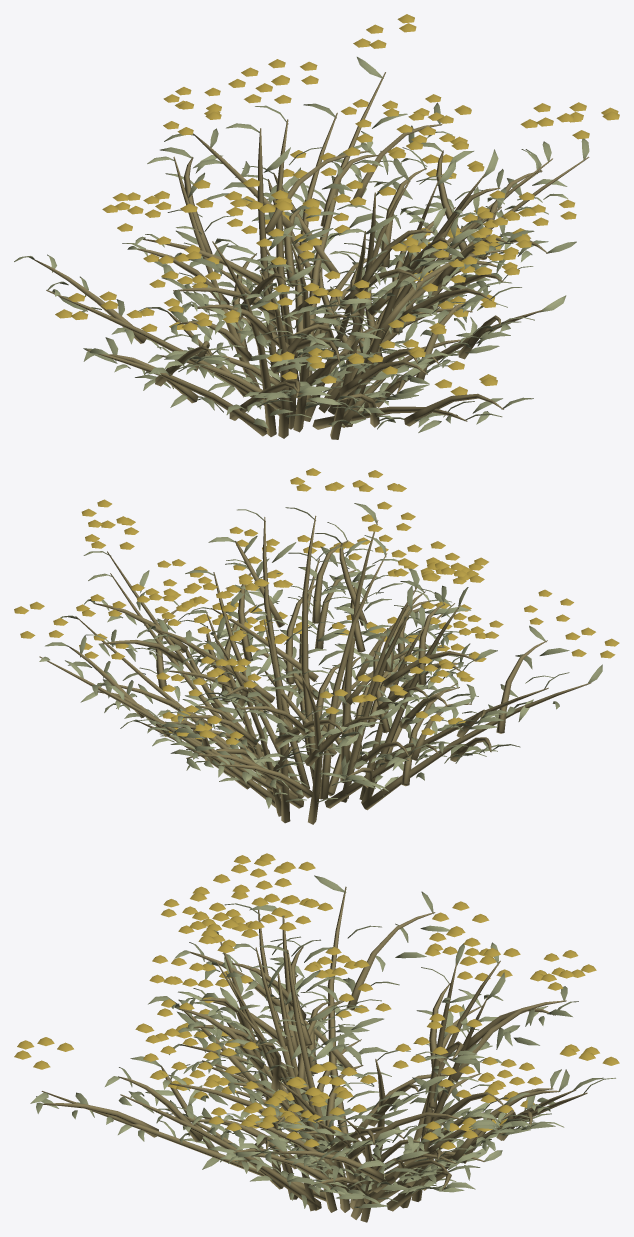
File: Immortelle_Jeune_LOD0.fbx
3 views of the same model, one above another, from view 1: azimuth 30°, elevation 25°; view 2: azimuth 150°, elevation 25°; view 3: azimuth 270°, elevation 25° (orthographic). The views are drawn at different scales.
Parts seen in each view (by area): view 1: Immortelle_Jeune; view 2: Immortelle_Jeune; view 3: Immortelle_Jeune.
Part boxes in pixels (<box>): Immortelle_Jeune: <box>14,14,619,439</box>; Immortelle_Jeune: <box>14,468,619,824</box>; Immortelle_Jeune: <box>14,853,619,1222</box>.
Bounding box in the file's own units: 47.18 × 25.17 × 43.35.
